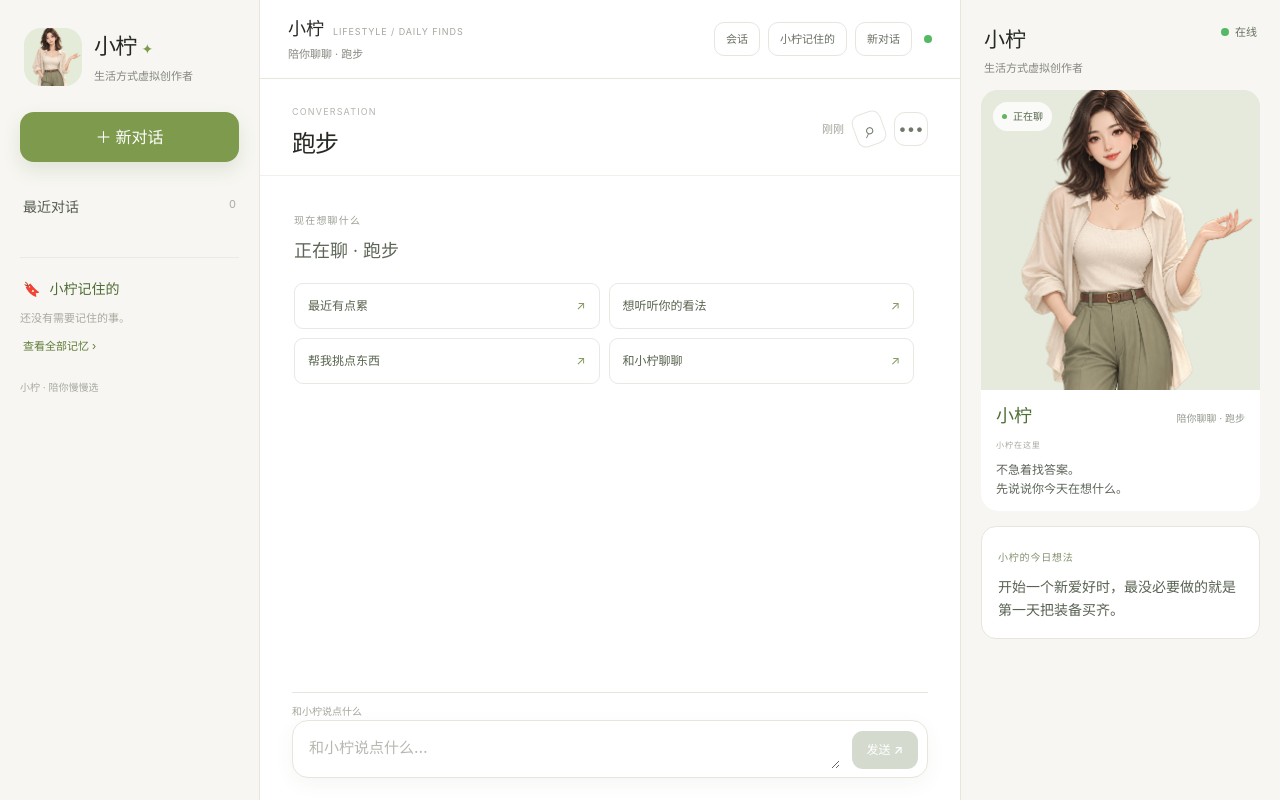
it: Final Creator Home › does not render a bare amount when product currency is unknown
The image size is (1280, 800).
Expected: the element with test id "avatar-stage" is shown, [981,90,1260,511]
Type "帮我看看" into the text box with placeholder "和小柠说点什么…" at x=574, y=750, box [309,731,840,769]
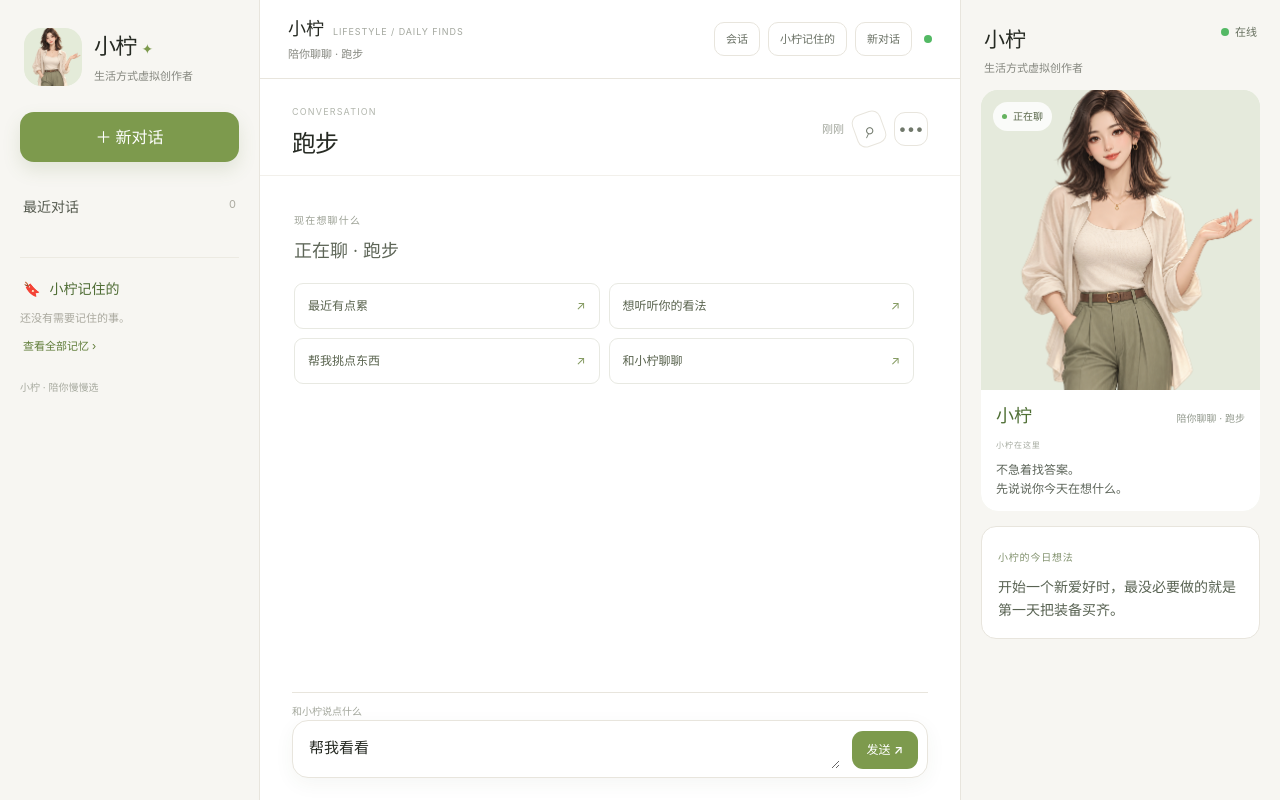
Click the button "发送 ↗" at x=885, y=750, box [852,731,918,769]
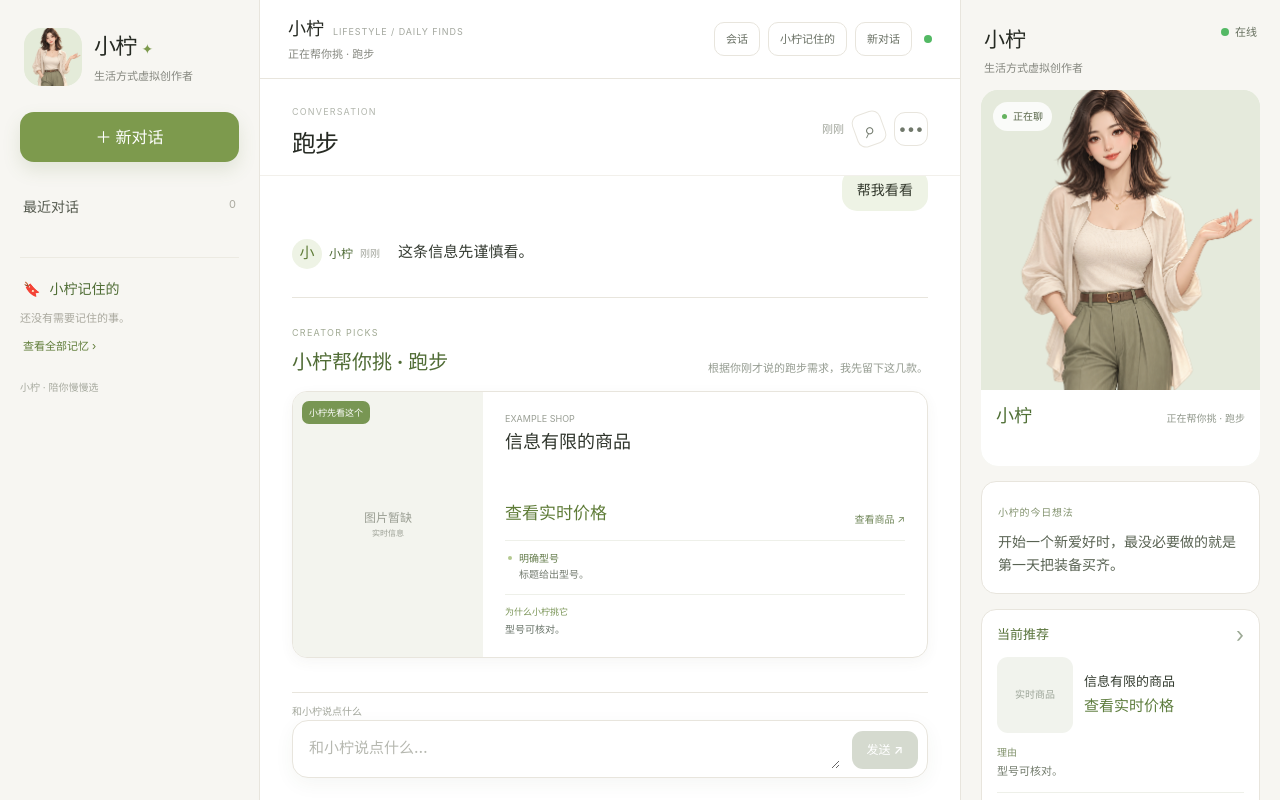
Expected: the element "小柠帮你挑" does not show "169.99", [292,297,928,658]
Result: the element "小柠帮你挑" shows "查看实时价格" at [292,391,928,658]
